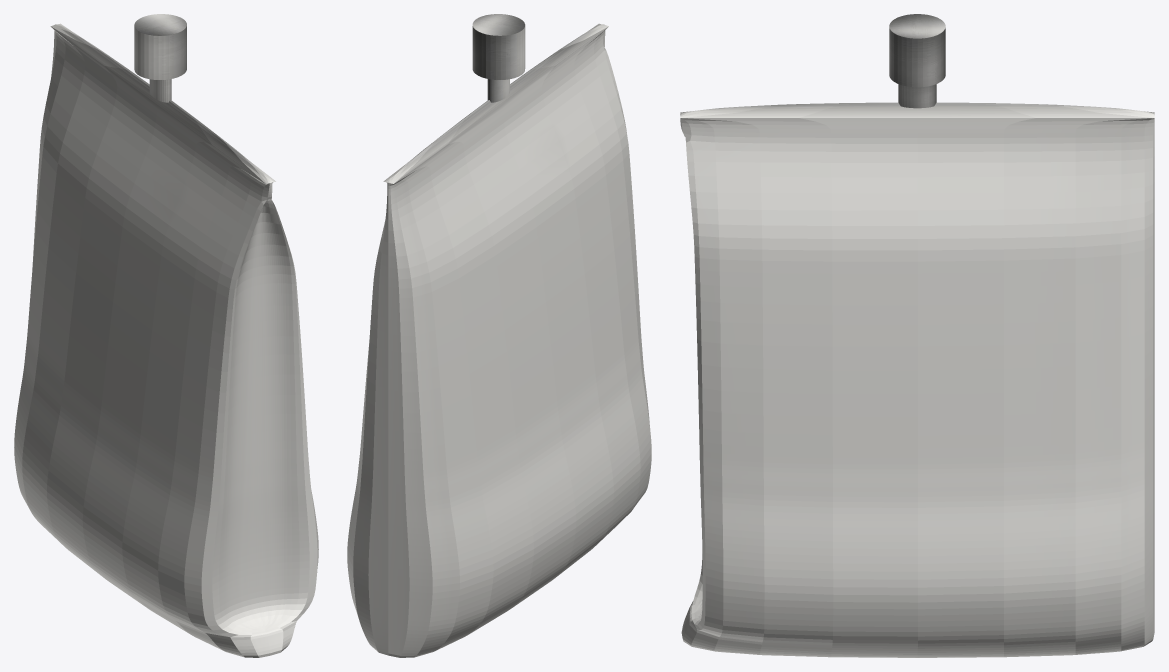
File: ゼリー.fbx
3 renders of one model, left to right at view 1: azimuth 30°, elevation 25°; view 2: azimuth 150°, elevation 25°; view 3: azimuth 270°, elevation 25°, orthographic. The views are drawn at different scales.
Parts seen in each view (by area): view 1: 円柱; view 2: 円柱; view 3: 円柱.
Part boxes in pixels (left/top/right/bottom): 円柱: left=14, top=14, right=318, bottom=657; 円柱: left=347, top=14, right=651, bottom=657; 円柱: left=680, top=14, right=1154, bottom=657.
Size of the model in its own units: 85.94 by 286 by 200.
